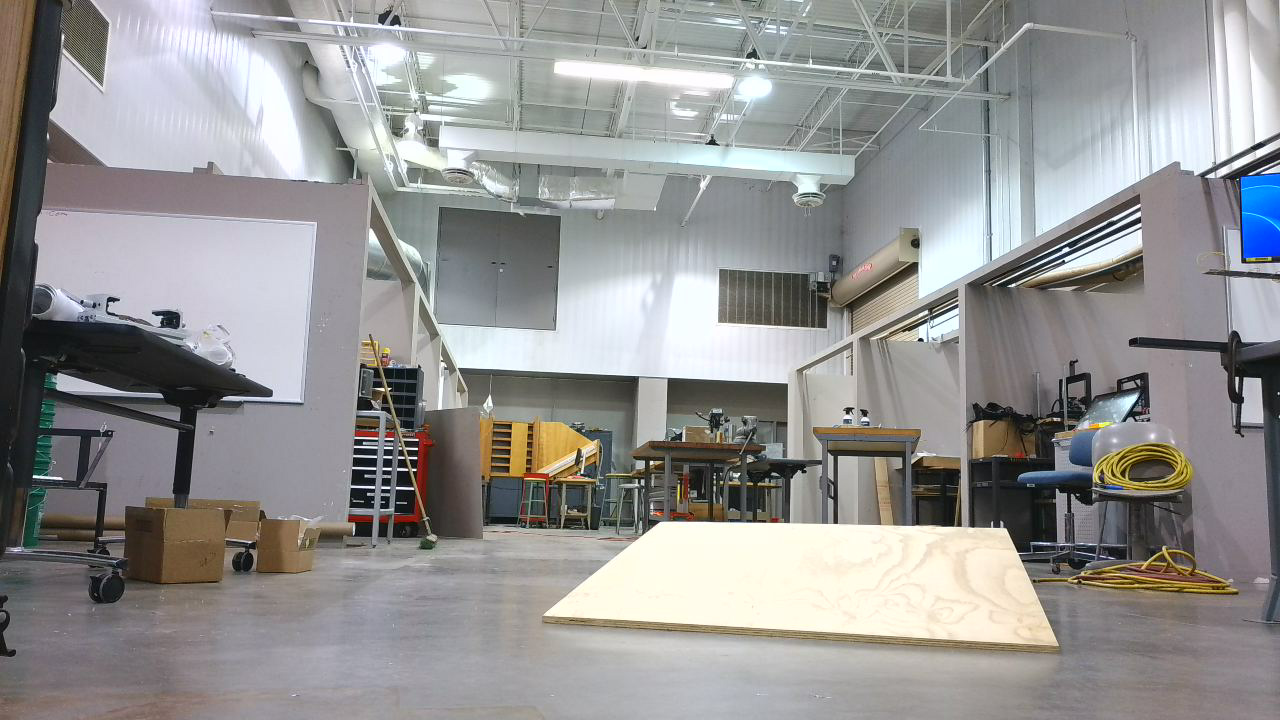ramp: (545, 521, 1077, 661)
